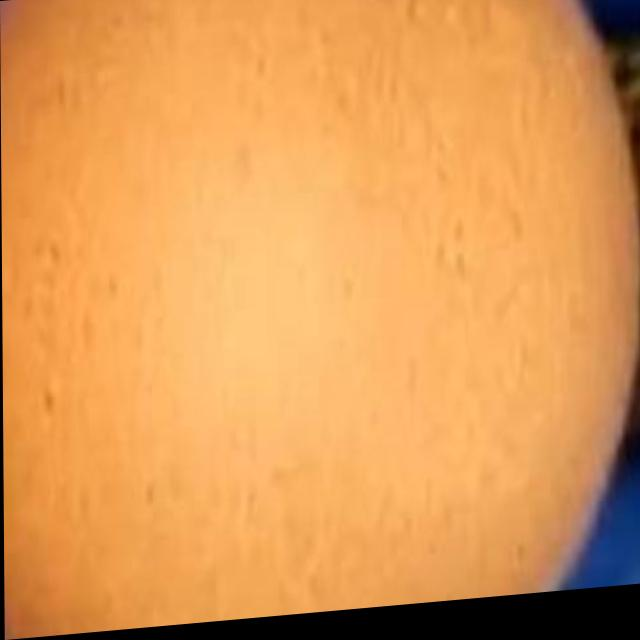unfresh: (0, 0, 626, 640)
